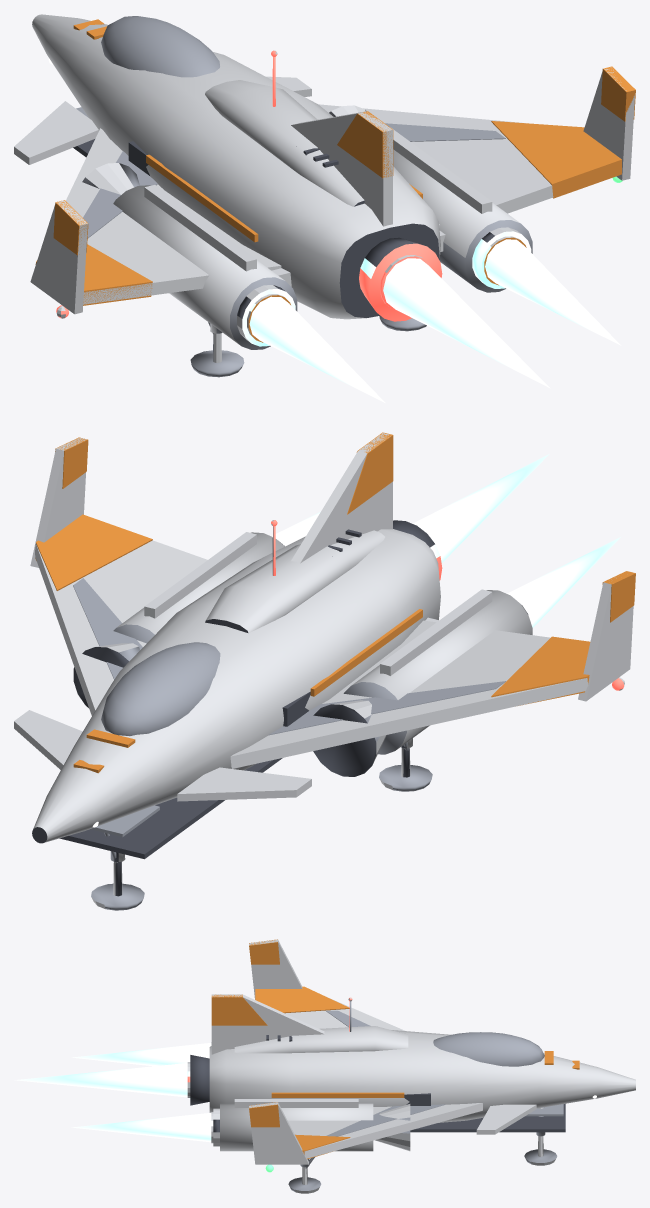
Rendered from ship.glb.
3 renders of one model, top to bottom at view 1: azimuth 30°, elevation 25°; view 2: azimuth 150°, elevation 25°; view 3: azimuth 270°, elevation 25°, orthographic. The views are drawn at different scales.
Parts seen in each view (by area): view 1: Ship_Body, Ship_Flame_C, Ship_Flame_L, Ship_Flame_R, Ship_Gear_L; view 2: Ship_Body, Ship_Flame_C, Ship_Flame_L, Ship_Gear_Front, Ship_Gear_L; view 3: Ship_Body, Ship_Flame_C, Ship_Flame_R, Ship_Flame_L, Ship_Gear_Front, Ship_Gear_R.
Boxes of the visible parts, left/top/right/bottom form: Ship_Body: left=14, top=14, right=635, bottom=349; Ship_Flame_C: left=383, top=258, right=550, bottom=388; Ship_Flame_L: left=249, top=296, right=385, bottom=402; Ship_Flame_R: left=485, top=239, right=621, bottom=345; Ship_Gear_L: left=190, top=322, right=244, bottom=377; Ship_Body: left=14, top=432, right=635, bottom=859; Ship_Flame_C: left=412, top=454, right=549, bottom=562; Ship_Flame_L: left=507, top=537, right=620, bottom=627; Ship_Gear_Front: left=91, top=832, right=144, bottom=910; Ship_Gear_L: left=379, top=738, right=432, bottom=791; Ship_Body: left=187, top=939, right=635, bottom=1172; Ship_Flame_C: left=14, top=1063, right=187, bottom=1097; Ship_Flame_R: left=71, top=1112, right=211, bottom=1142; Ship_Flame_L: left=72, top=1043, right=211, bottom=1066; Ship_Gear_Front: left=524, top=1107, right=557, bottom=1165; Ship_Gear_R: left=288, top=1157, right=321, bottom=1193.
Size of the model in its own units: 9.64 by 4.36 by 15.03.
